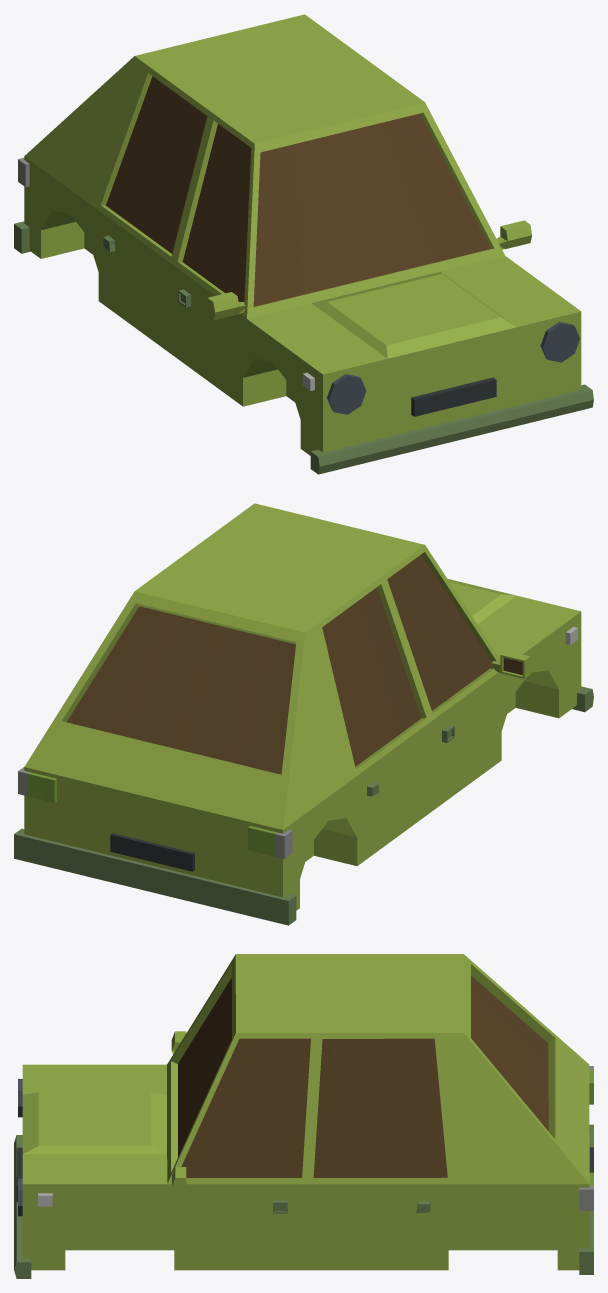
The model's file is Car_04.fbx.
3 views of the same model, one above another, from view 1: azimuth 30°, elevation 25°; view 2: azimuth 150°, elevation 25°; view 3: azimuth 270°, elevation 25° (orthographic). The views are drawn at different scales.
Visible parts, largest first — view 1: Car_04; view 2: Car_04; view 3: Car_04.
Boxes of the visible parts, x1,y1,x2,y2 form: Car_04: [14, 14, 593, 474]; Car_04: [14, 503, 593, 925]; Car_04: [14, 954, 593, 1278].
Size of the model in its own units: 1.96 by 1.38 by 3.28.
